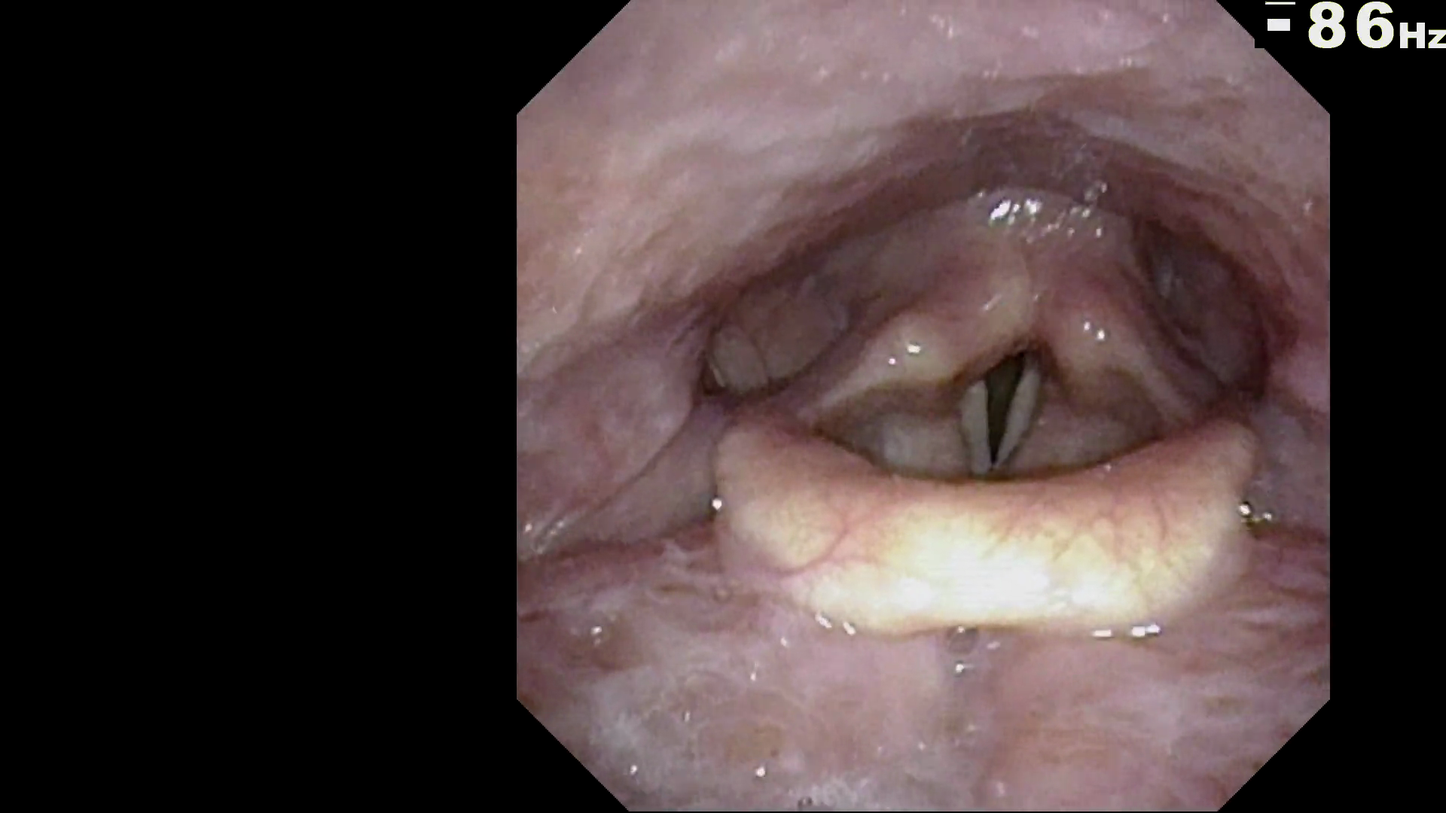epiglottis: (696, 380, 1257, 629)
trachea: (935, 318, 1081, 500)
